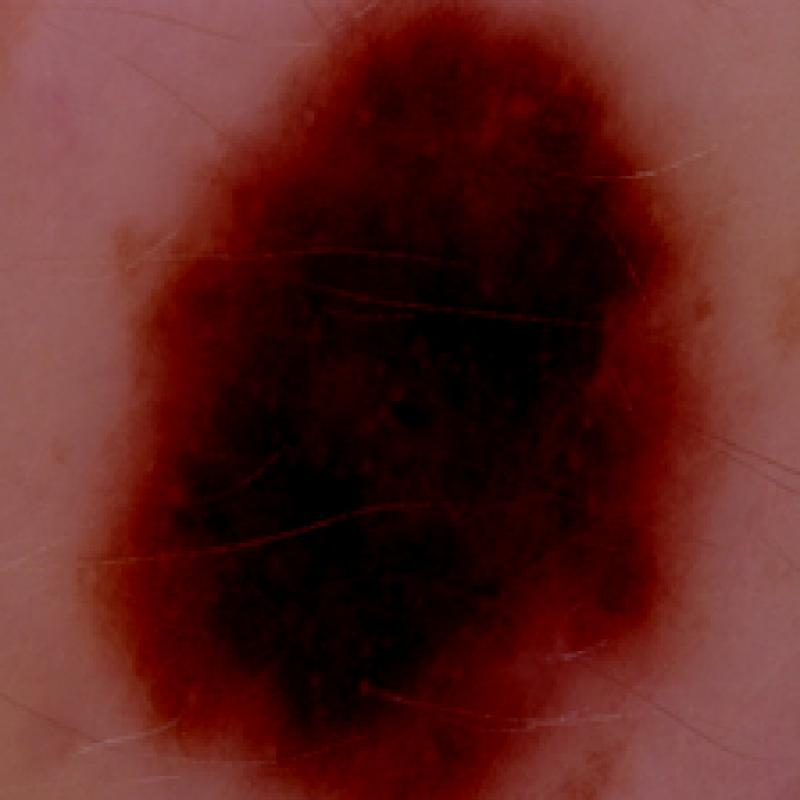benign: (119, 18, 682, 790)
